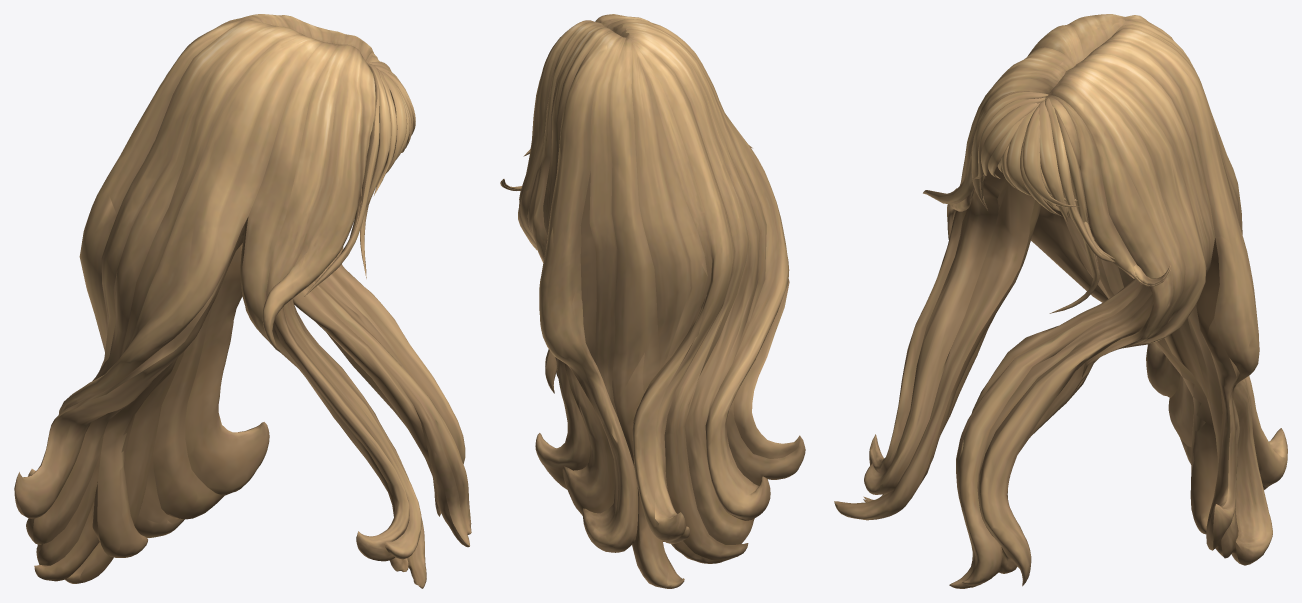
File: GHair_1.glb
3 renders of one model, left to right at view 1: azimuth 30°, elevation 25°; view 2: azimuth 150°, elevation 25°; view 3: azimuth 270°, elevation 25°, orthographic. The views are drawn at different scales.
Visible parts, largest first — view 1: Nabi_Hair_mesh; view 2: Nabi_Hair_mesh; view 3: Nabi_Hair_mesh.
Boxes of the visible parts, x1,y1,x2,y2 form: Nabi_Hair_mesh: (14, 14, 471, 588); Nabi_Hair_mesh: (500, 14, 805, 588); Nabi_Hair_mesh: (834, 14, 1287, 588).
Bounding box in the file's own units: 0.0508 × 0.0756 × 0.0531.
1 material, 1 textured.
